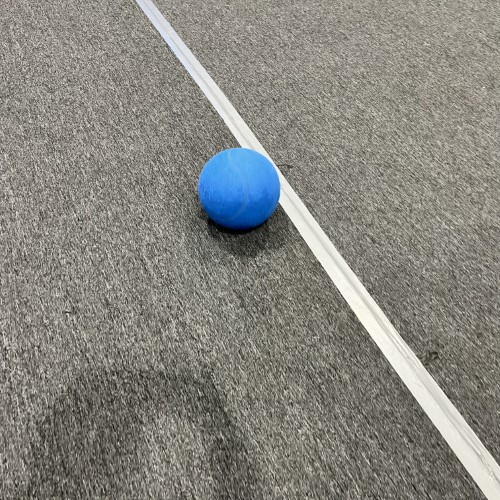blue: (195, 145, 281, 231)
